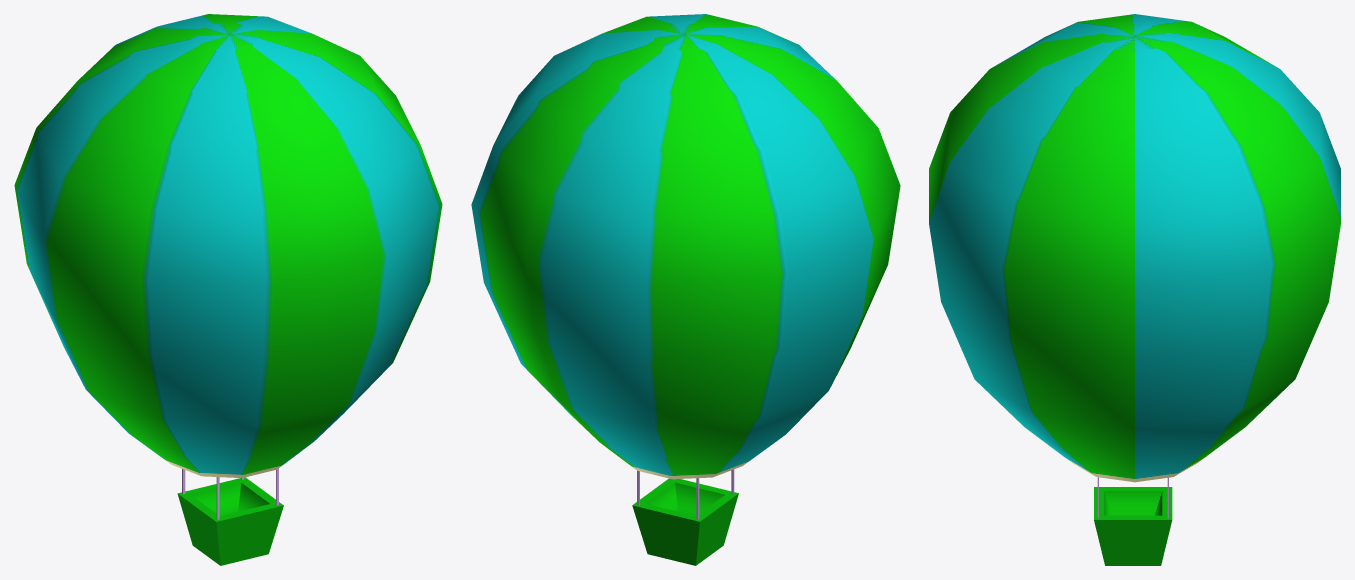
File: GamekaLand_Air_Balloon_1.fbx
3 renders of one model, left to right at view 1: azimuth 30°, elevation 25°; view 2: azimuth 150°, elevation 25°; view 3: azimuth 270°, elevation 25°, orthographic.
Parts seen in each view (by area): view 1: GamekaLand_Air_Balloon_1; view 2: GamekaLand_Air_Balloon_1; view 3: GamekaLand_Air_Balloon_1.
Boxes of the visible parts, x1=… form: GamekaLand_Air_Balloon_1: x1=14, y1=14, x2=442, y2=565; GamekaLand_Air_Balloon_1: x1=471, y1=14, x2=900, y2=565; GamekaLand_Air_Balloon_1: x1=929, y1=14, x2=1340, y2=565.
Bounding box in the file's own units: 5.87 × 7.75 × 5.58.
